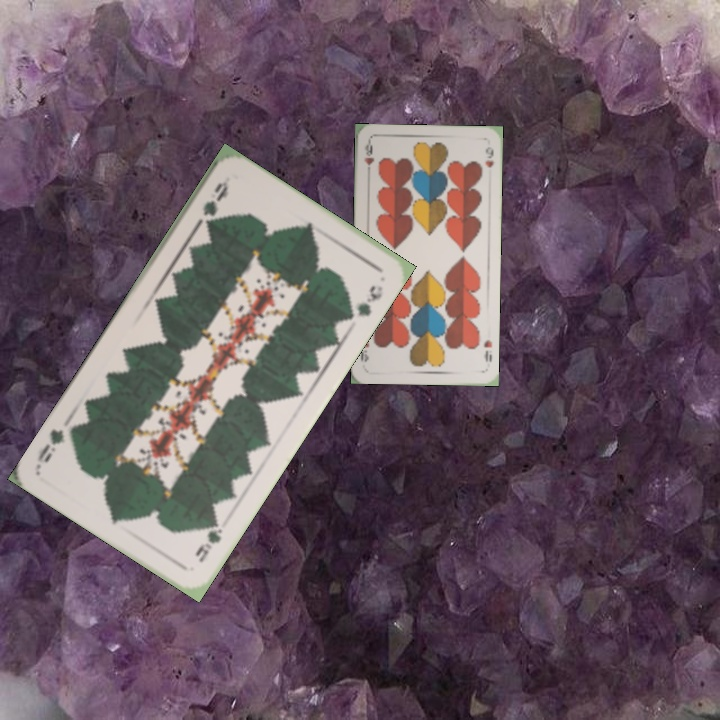G9: (193, 175, 233, 230), (191, 513, 226, 565)
H9: (360, 139, 376, 179), (480, 336, 495, 364)
